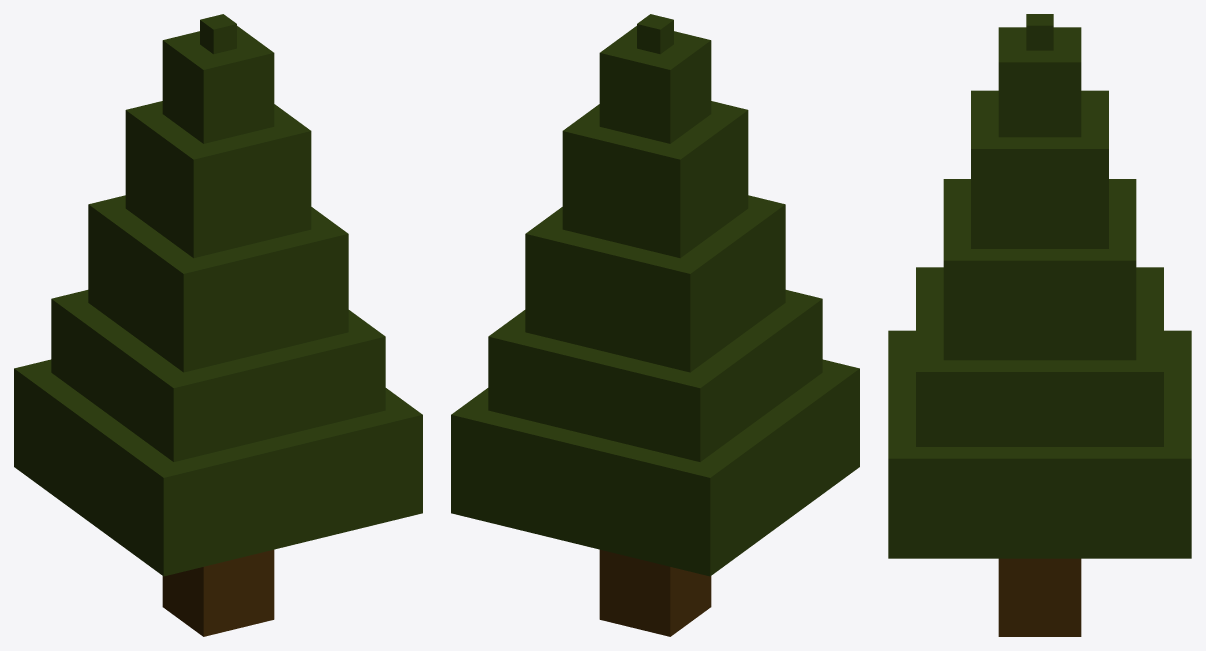
The model's file is tree9.obj.
The picture shows the model from 3 angles, left to right: view 1: azimuth 30°, elevation 25°; view 2: azimuth 150°, elevation 25°; view 3: azimuth 270°, elevation 25°; orthographic projection.
Visible parts, largest first — view 1: tree9; view 2: tree9; view 3: tree9.
Boxes of the visible parts, box(x1,y1,x2,y2) form: tree9: box(14, 14, 422, 636); tree9: box(451, 14, 859, 636); tree9: box(888, 14, 1191, 636).
Size of the model in its own units: 11 by 24 by 11.
1 material, 1 textured.
